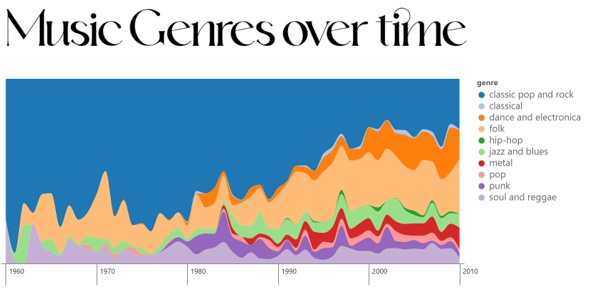

The page's visual inventory and layout, read from the dashboard file:
{"tool":"powerbi","page":{"name":"Page 1","canvas":[1280,720],"ordinal":10},"visuals":[{"type":"deneb7E15AEF80B9E4D4F8E12924291ECE89A","fields":{"dataset":["Unemployment.series","Unemployment.date","Sum(Unemployment.count)"]},"box":[0,0,1143.1,627.8],"z":0}]}

Visuals, with their boxes on the page's 1280x720 design canvas (x1, y1, x2, y2). These are canvas units, not pixel positions in the 590x290 screenshot, which may show the page scaled, cropped or inside an application window:
deneb7E15AEF80B9E4D4F8E12924291ECE89A - Unemployment.series x Unemployment.date: [left=0, top=0, right=1143, bottom=628]
